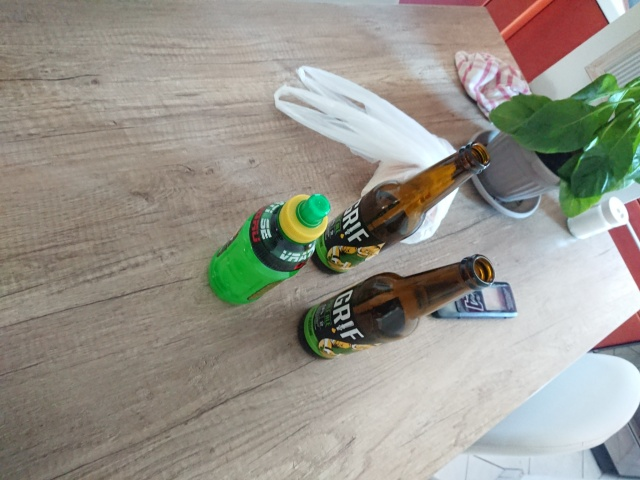Vindi Iso Sport Lemon-Grapefruit 500mL: (203, 190, 333, 310)
